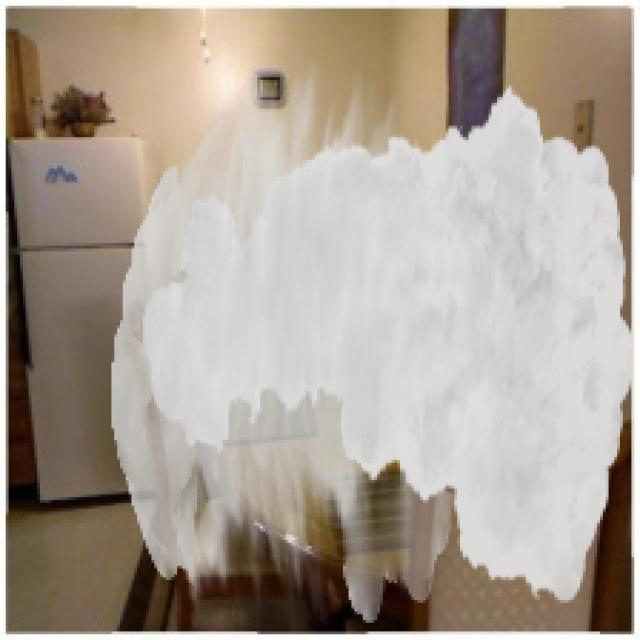Smoke: (111, 63, 634, 623)
